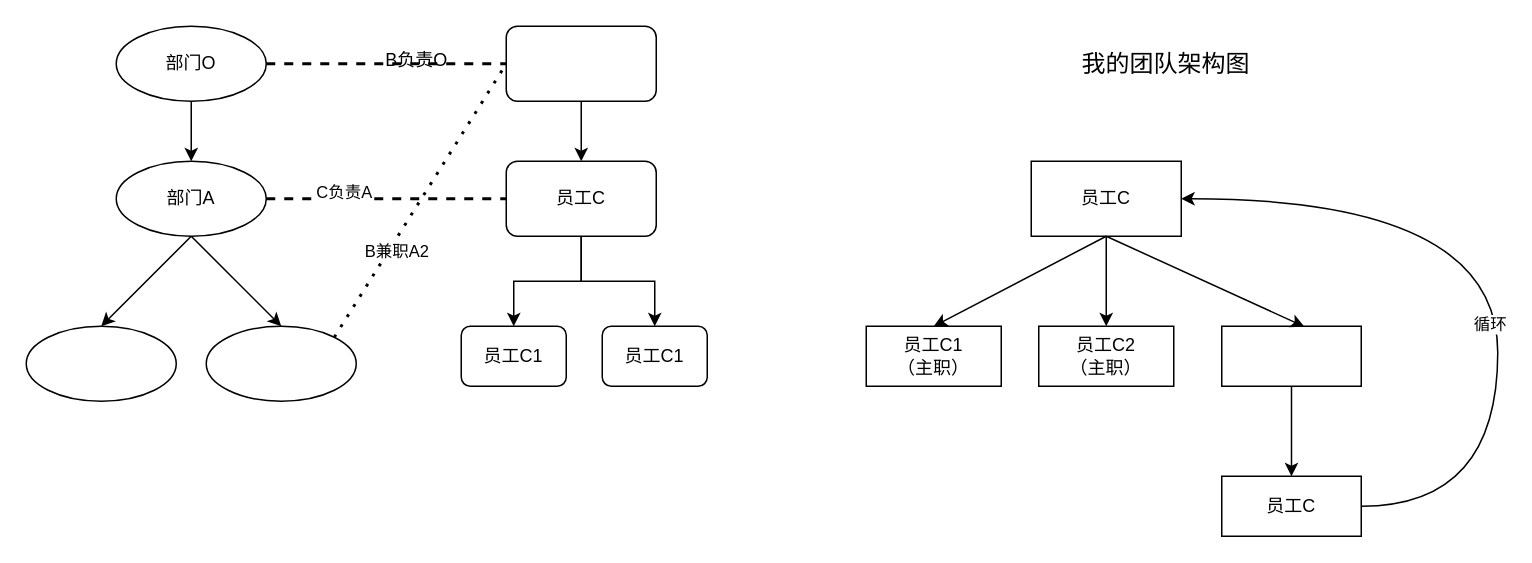
Image size: 1532x563. Some labels were removed from this diagram. The box of each missing label's shape, as (x1, y1, x2, y2) in pixels:
员工B: (505, 25, 656, 101)
员工B （兼职）: (1220, 325, 1361, 386)
部门A1: (25, 325, 176, 401)
部门A2: (205, 325, 356, 401)
